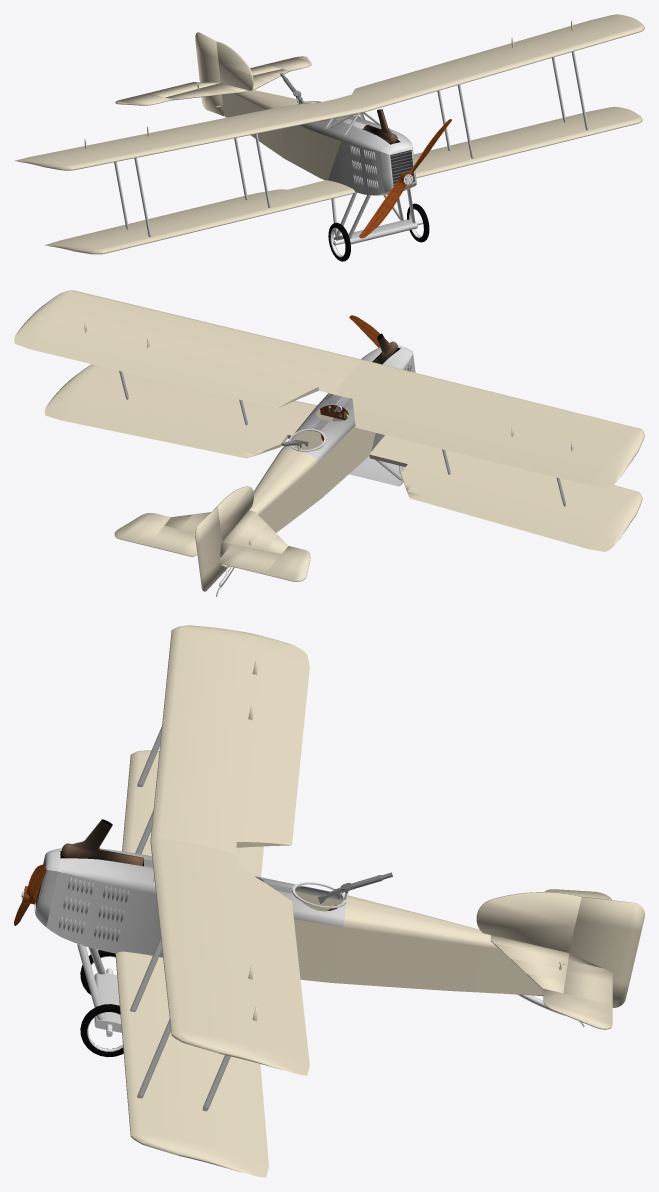
File: breguet_14.glb
The picture shows the model from 3 angles, top to bottom: view 1: azimuth 30°, elevation 25°; view 2: azimuth 150°, elevation 25°; view 3: azimuth 270°, elevation 25°; orthographic projection. The views are drawn at different scales.
Parts seen in each view (by area): view 1: Material2.005, Material2.007, Material2.010, Material3.015, Material3.013, Material3.012, Material2.008; view 2: Material2.005, Material2.007, Material2.010; view 3: Material2.005, Material2.007, Material2.010, Material2.008, Material3.013.
Part boxes in pixels (left/top/right/bottom): Material2.005: left=14, top=14, right=644, bottom=254; Material2.007: left=225, top=102, right=416, bottom=195; Material2.010: left=114, top=51, right=588, bottom=245; Material3.015: left=359, top=119, right=451, bottom=238; Material3.013: left=328, top=203, right=429, bottom=261; Material3.012: left=390, top=150, right=414, bottom=186; Material2.008: left=363, top=109, right=397, bottom=143; Material2.005: left=14, top=290, right=644, bottom=591; Material2.007: left=219, top=345, right=415, bottom=587; Material2.010: left=119, top=370, right=565, bottom=506; Material2.005: left=115, top=625, right=644, bottom=1177; Material2.007: left=34, top=848, right=564, bottom=1015; Material2.010: left=77, top=726, right=230, bottom=1111; Material2.008: left=61, top=820, right=143, bottom=865; Material3.013: left=80, top=950, right=123, bottom=1057.
Size of the model in its own units: 51.35 by 11.69 by 31.97.
28 materials, 10 textured.
